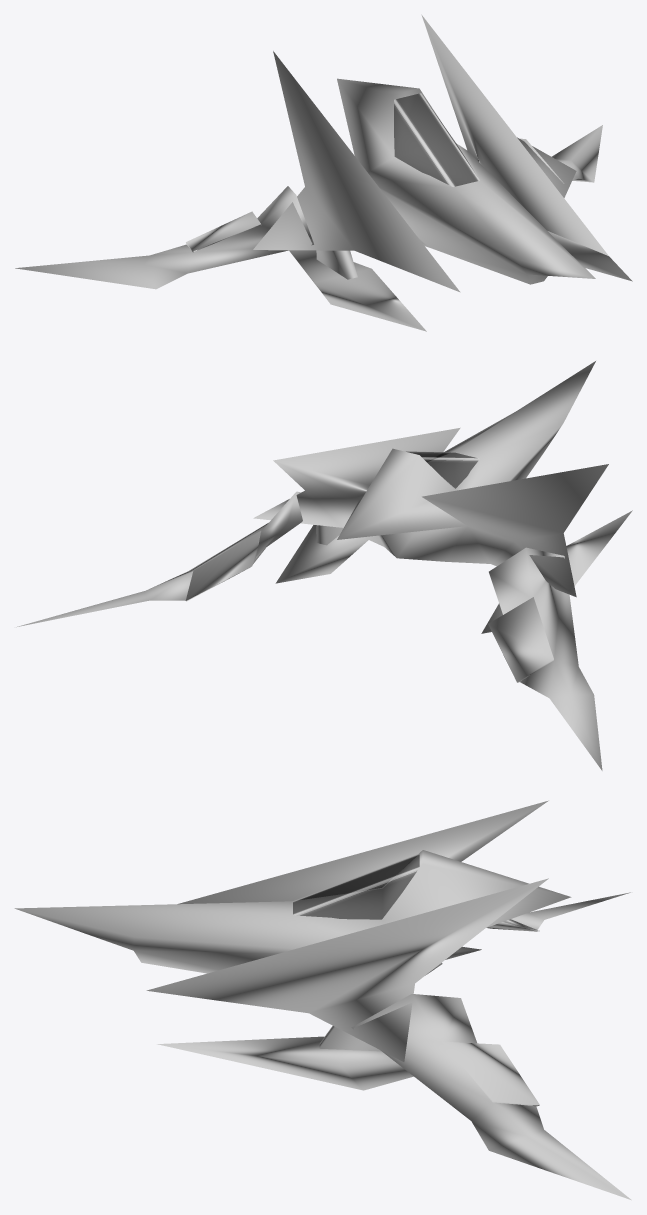
File: arwingNew72.obj
3 views of the same model, one above another, from view 1: azimuth 30°, elevation 25°; view 2: azimuth 150°, elevation 25°; view 3: azimuth 270°, elevation 25° (orthographic). The views are drawn at different scales.
Parts seen in each view (by area): view 1: Arwing.002; view 2: Arwing.002; view 3: Arwing.002.
Part boxes in pixels (x1,y1,x2,y2): Arwing.002: (15,14,632,331); Arwing.002: (16,361,632,770); Arwing.002: (14,800,631,1200).
Bounding box in the file's own units: 6.87 × 2.15 × 5.82.
